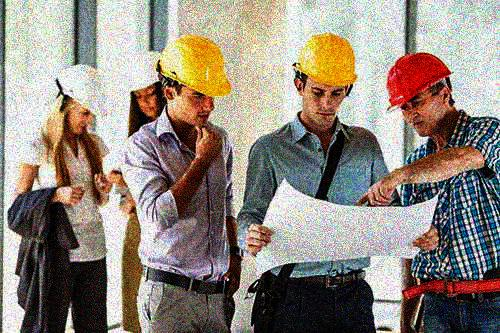helmet: (289, 31, 359, 126), (158, 34, 234, 121), (383, 51, 457, 139), (53, 63, 110, 137), (126, 50, 168, 120)
